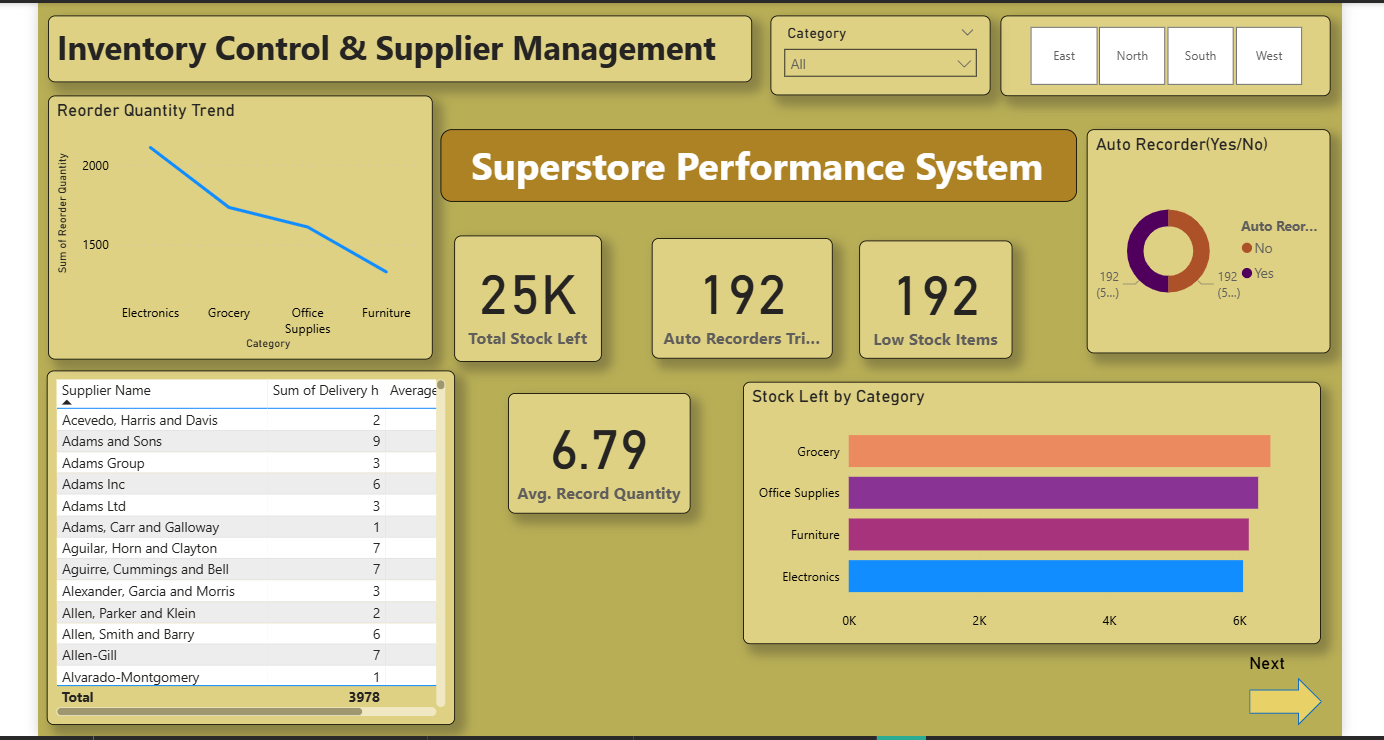

Layout of this report page (visuals, bound fields, positions):
{"tool":"powerbi","page":{"name":"Inventory Control & Supplier Mangement","canvas":[1280,720],"ordinal":0},"visuals":[{"type":"shape","title":"Next","box":[1188.4,638.6,71.6,71.6],"z":0},{"type":"textbox","box":[9.6,12.3,691.6,65.9],"z":2000},{"type":"card","fields":{"Values":["Superstore_Management_System.Total Stock Left"]},"box":[408.9,228.5,144.5,123.9],"z":3000},{"type":"slicer","fields":{"Values":["Superstore_Management_System.Category"]},"box":[719.4,12.4,216.4,78.6],"z":4000},{"type":"slicer","fields":{"Values":["Superstore_Management_System.Region"]},"box":[945.3,12.5,323.9,78.9],"z":5000},{"type":"card","fields":{"Values":["Superstore_Management_System.Low stock Left"]},"box":[806.7,232.7,150.1,115.6],"z":6000},{"type":"card","fields":{"Values":["Superstore_Management_System.avg record"]},"box":[461.2,382.7,179,118.4],"z":7000},{"type":"card","fields":{"Values":["Superstore_Management_System.Auto"]},"box":[603,231.3,177.6,118.4],"z":8000},{"type":"clusteredBarChart","title":"Stock Left by Category","fields":{"Category":["Superstore_Management_System.Category"],"Y":["Sum(Superstore_Management_System.Stock Left)"]},"box":[692.5,371.7,567.2,257.4],"z":9000},{"type":"donutChart","title":"Auto Recorder(Yes/No)","fields":{"Category":["Superstore_Management_System.Auto Reorder"],"Y":["Superstore_Management_System.Auto Recorders Triggered"]},"box":[1029.7,123.9,239.5,220.3],"z":10000},{"type":"lineChart","title":"Reorder Quantity Trend","fields":{"Y":["Sum(Superstore_Management_System.Reorder Quantity)"],"Category":["Superstore_Management_System.Category"]},"box":[9.6,90.9,377.2,258.8],"z":11000},{"type":"tableEx","title":"Supplier Performance","fields":{"Values":["Superstore_Management_System.Supplier Name","Sum(Superstore_Management_System.Delivery h)","Superstore_Management_System.Average Delay (Days)"]},"box":[8.3,360.7,400.6,348.3],"z":12000},{"type":"textbox","box":[395.1,123.9,625,71.6],"z":13001}]}

Visuals, with their boxes on the page's 1280x720 design canvas (x1, y1, x2, y2). These are canvas units, not pixel positions in the 1384x740 screenshot, which may show the page scaled, cropped or inside an application window:
"Next" shape: {"left": 1188, "top": 639, "right": 1260, "bottom": 710}
textbox: {"left": 10, "top": 12, "right": 701, "bottom": 78}
card - Superstore_Management_System.Total Stock Left: {"left": 409, "top": 228, "right": 553, "bottom": 352}
slicer - Superstore_Management_System.Category: {"left": 719, "top": 12, "right": 936, "bottom": 91}
slicer - Superstore_Management_System.Region: {"left": 945, "top": 12, "right": 1269, "bottom": 91}
card - Superstore_Management_System.Low stock Left: {"left": 807, "top": 233, "right": 957, "bottom": 348}
card - Superstore_Management_System.avg record: {"left": 461, "top": 383, "right": 640, "bottom": 501}
card - Superstore_Management_System.Auto: {"left": 603, "top": 231, "right": 781, "bottom": 350}
"Stock Left by Category" clusteredBarChart: {"left": 692, "top": 372, "right": 1260, "bottom": 629}
"Auto Recorder(Yes/No)" donutChart: {"left": 1030, "top": 124, "right": 1269, "bottom": 344}
"Reorder Quantity Trend" lineChart: {"left": 10, "top": 91, "right": 387, "bottom": 350}
"Supplier Performance" tableEx: {"left": 8, "top": 361, "right": 409, "bottom": 709}
textbox: {"left": 395, "top": 124, "right": 1020, "bottom": 196}
